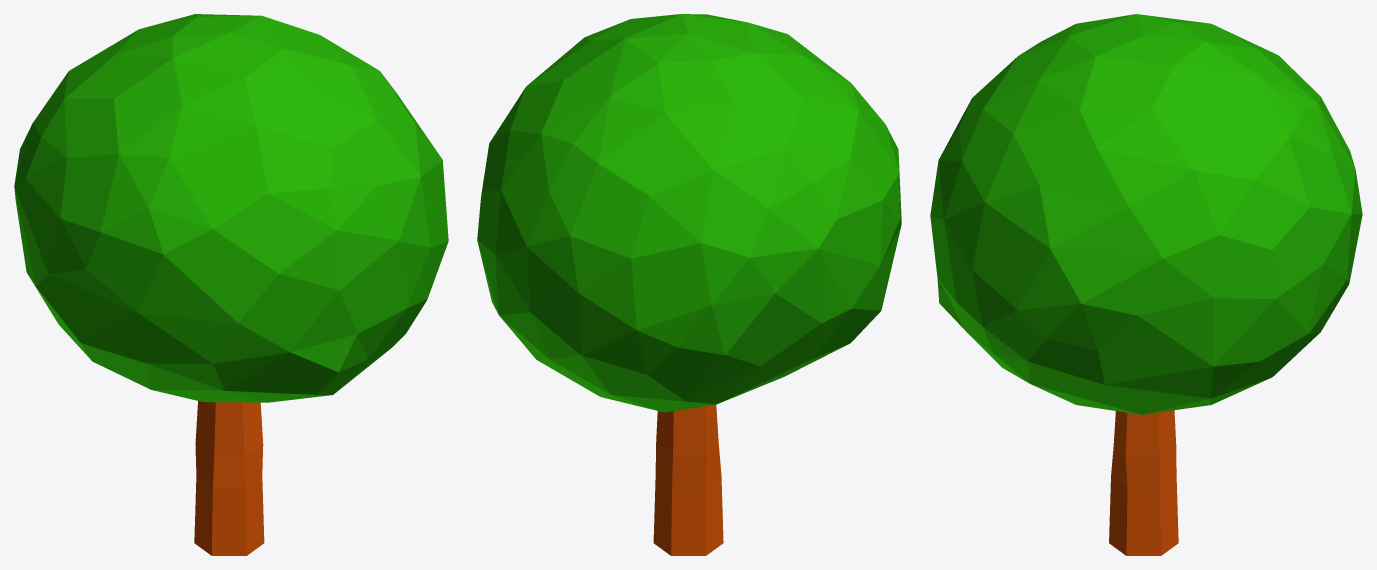
File: CienkieDrzewov2.fbx
3 views of the same model, side by side, from view 1: azimuth 30°, elevation 25°; view 2: azimuth 150°, elevation 25°; view 3: azimuth 270°, elevation 25° (orthographic).
Parts seen in each view (by area): view 1: Kula ico, Walec; view 2: Kula ico, Walec; view 3: Kula ico, Walec.
Boxes of the visible parts, x1,y1,x2,y2 form: Kula ico: (14, 14, 448, 402); Walec: (194, 401, 264, 555); Kula ico: (477, 14, 901, 412); Walec: (653, 404, 723, 555); Kula ico: (930, 14, 1362, 414); Walec: (1109, 410, 1178, 555).
Bounding box in the file's own units: 1222 × 1608 × 1241.
